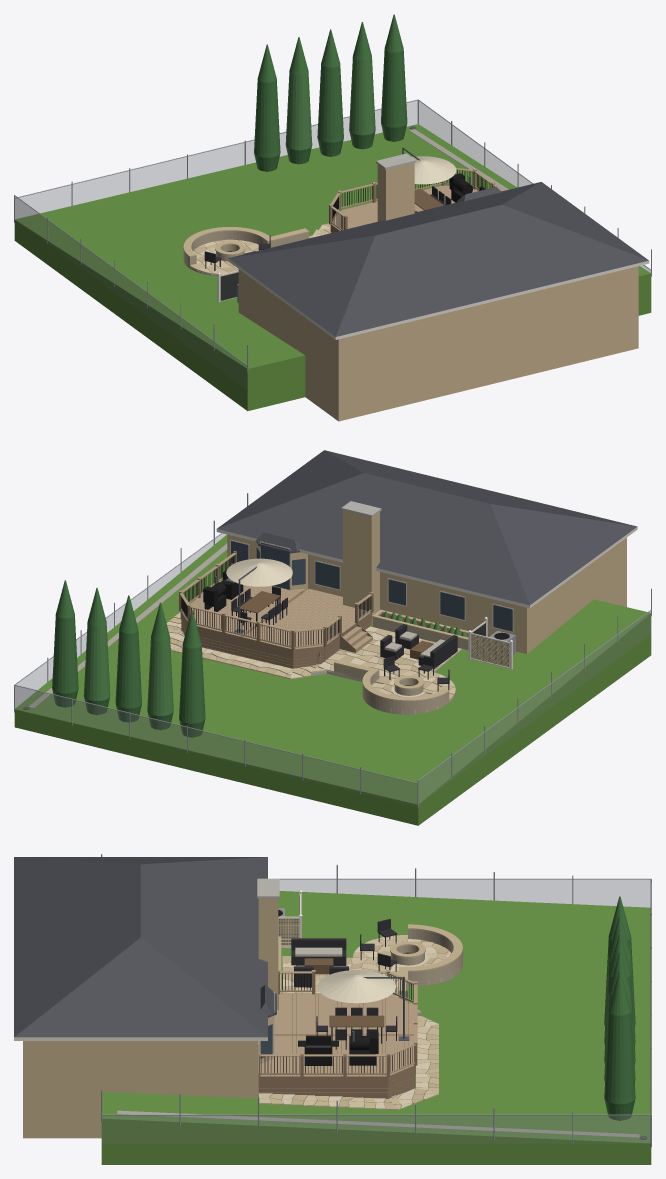
The model's file is backyard-summer.glb.
The picture shows the model from 3 angles, top to bottom: view 1: azimuth 30°, elevation 25°; view 2: azimuth 150°, elevation 25°; view 3: azimuth 270°, elevation 25°; orthographic projection. The views are drawn at different scales.
Visible parts, largest first — view 1: Grade/ground, House/roof, House/walls, Fence/fence mesh north, Fence/fence mesh west, Fence/fence mesh east, House/chimney, Evergreens/tree 2 body, Evergreens/tree 0 body, Evergreens/tree 3 body, Evergreens/tree 4 body, Evergreens/tree 1 body (+4 smaller); view 2: Grade/ground, House/roof, House/walls, Fence/fence mesh north, Fence/fence mesh west, House/chimney, Fence/fence mesh east, Evergreens/tree 0 body, Evergreens/tree 4 body, Evergreens/tree 2 body, Evergreens/tree 1 body, Evergreens/tree 3 body (+11 smaller); view 3: Grade/ground, House/roof, House/walls, Fence/fence mesh east, Fence/fence mesh west, Evergreens/tree 4 body, French Drain/stone strip, Umbrellas/dining canopy, House/chimney, Seat Wall/arc wall, Deck Surface/fascia 0, Fence/fence top rail east (+11 smaller).
Part boxes in pixels (box(x1,y1,x2,y2)): Grade/ground: box(14, 124, 651, 410); House/roof: box(228, 182, 648, 336); House/walls: box(238, 266, 638, 421); Fence/fence mesh north: box(15, 101, 417, 218); Fence/fence mesh west: box(15, 197, 246, 388); Fence/fence mesh east: box(419, 101, 650, 272); House/chimney: box(377, 163, 414, 221); Evergreens/tree 2 body: box(317, 64, 343, 142); Evergreens/tree 0 body: box(254, 79, 280, 157); Evergreens/tree 3 body: box(349, 57, 375, 135); Evergreens/tree 4 body: box(381, 50, 407, 127); Evergreens/tree 1 body: box(285, 72, 312, 150); Grade/ground: box(14, 535, 651, 825); House/roof: box(217, 450, 637, 605); House/walls: box(227, 534, 626, 653); Fence/fence mesh north: box(15, 686, 417, 806); Fence/fence mesh west: box(419, 611, 650, 803); House/chimney: box(343, 510, 379, 625); Fence/fence mesh east: box(15, 533, 226, 707); Evergreens/tree 0 body: box(179, 644, 205, 723); Evergreens/tree 4 body: box(52, 615, 78, 693); Evergreens/tree 2 body: box(115, 630, 141, 708); Evergreens/tree 1 body: box(147, 638, 173, 715); Evergreens/tree 3 body: box(83, 622, 110, 700); Grade/ground: box(101, 891, 651, 1164); House/roof: box(14, 857, 267, 1037); House/walls: box(23, 1041, 258, 1138); Fence/fence mesh east: box(102, 1116, 650, 1143); Fence/fence mesh west: box(280, 880, 650, 907); Evergreens/tree 4 body: box(604, 1011, 635, 1104); French Drain/stone strip: box(117, 1110, 639, 1137); Umbrellas/dining canopy: box(317, 970, 395, 1003); House/chimney: box(258, 898, 278, 1010); Seat Wall/arc wall: box(408, 929, 462, 985); Deck Surface/fascia 0: box(258, 1076, 388, 1085); Fence/fence top rail east: box(102, 1114, 650, 1115).
Bounding box in the file's own units: 842 × 293 × 975.
